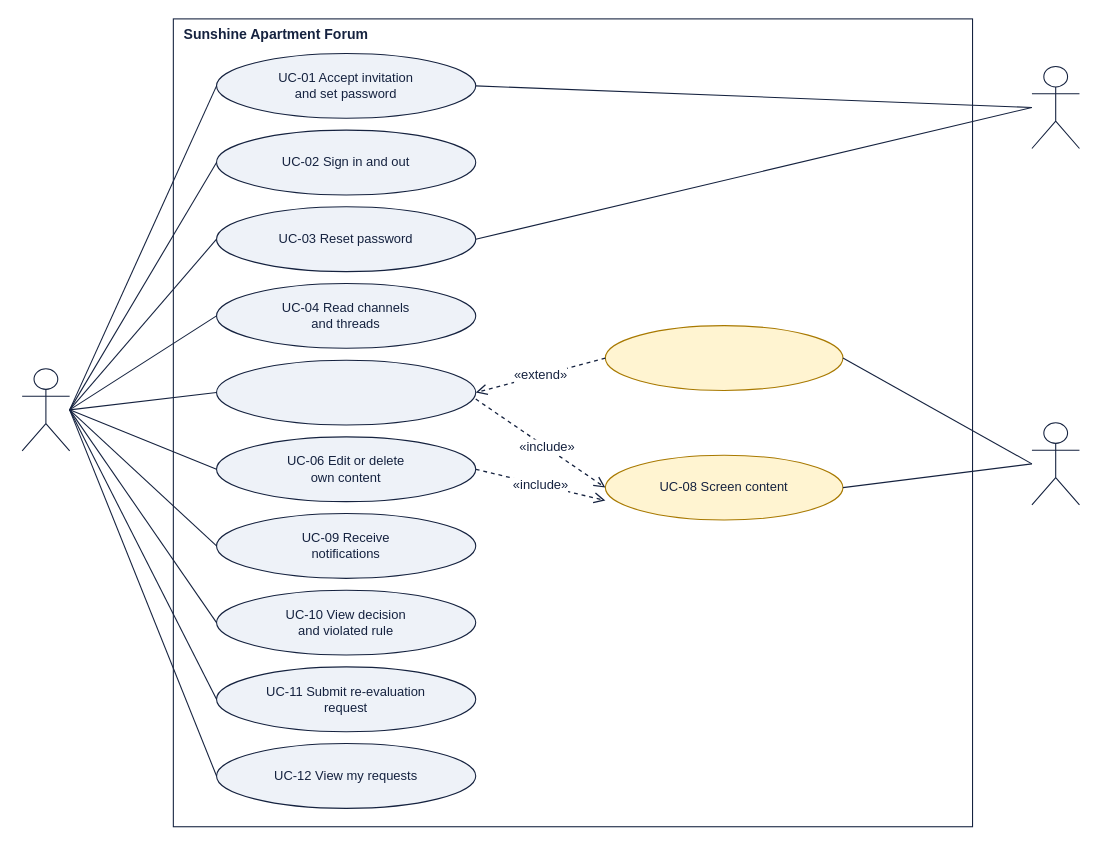
Image size: 1101x846. Some labels were removed from this diagram. Here are the shapes that lost their labels. From the top down, the centre of each, then its label:
At [1055,106]: "Email Provider".
At [723,357]: "UC-07 Check draft before sending".
At [45,409]: "Resident".
At [345,392]: "UC-05 Create post or comment".
At [1055,463]: "Scoring Service".
